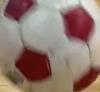Sports-Ball: (2, 2, 99, 88)
